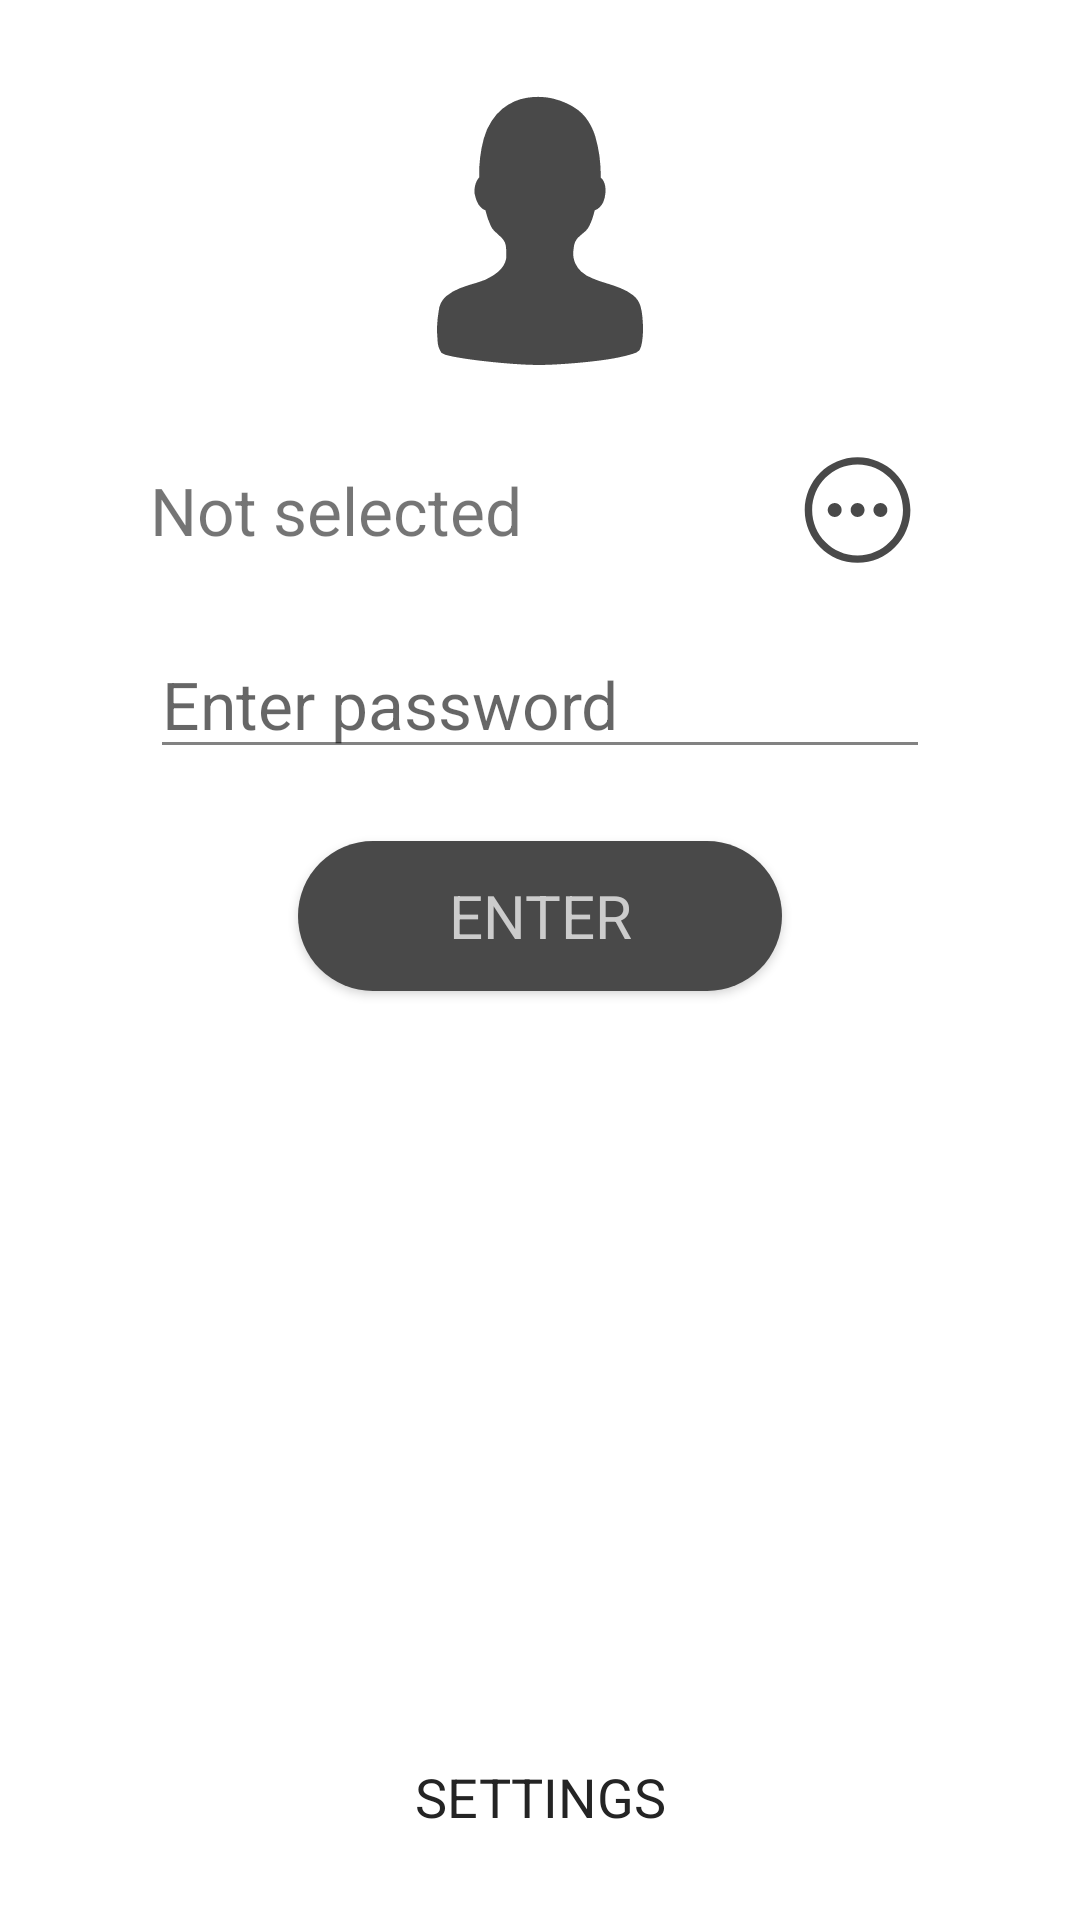

Named icons in this screenshot (1080 x 1920) and their centers, point (x, y):
more circle: point (857, 510)
user: point (540, 230)
